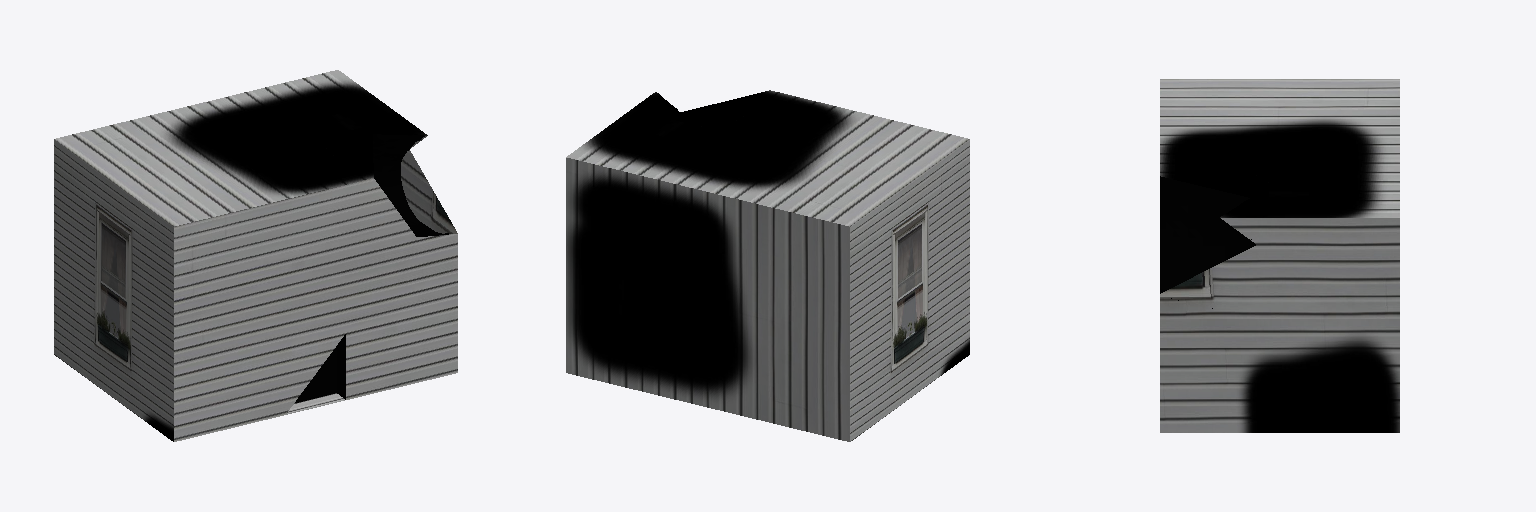
3 renders of one model, left to right at view 1: azimuth 30°, elevation 25°; view 2: azimuth 150°, elevation 25°; view 3: azimuth 270°, elevation 25°, orthographic.
Visible parts, largest first — view 1: Casa2; view 2: Casa2; view 3: Casa2.
Boxes of the visible parts, x1,y1,x2,y2 form: Casa2: [54, 70, 457, 441]; Casa2: [566, 90, 969, 441]; Casa2: [1160, 79, 1399, 432].
Size of the model in its own units: 16.56 by 12 by 12.09.
2 materials, 1 textured.